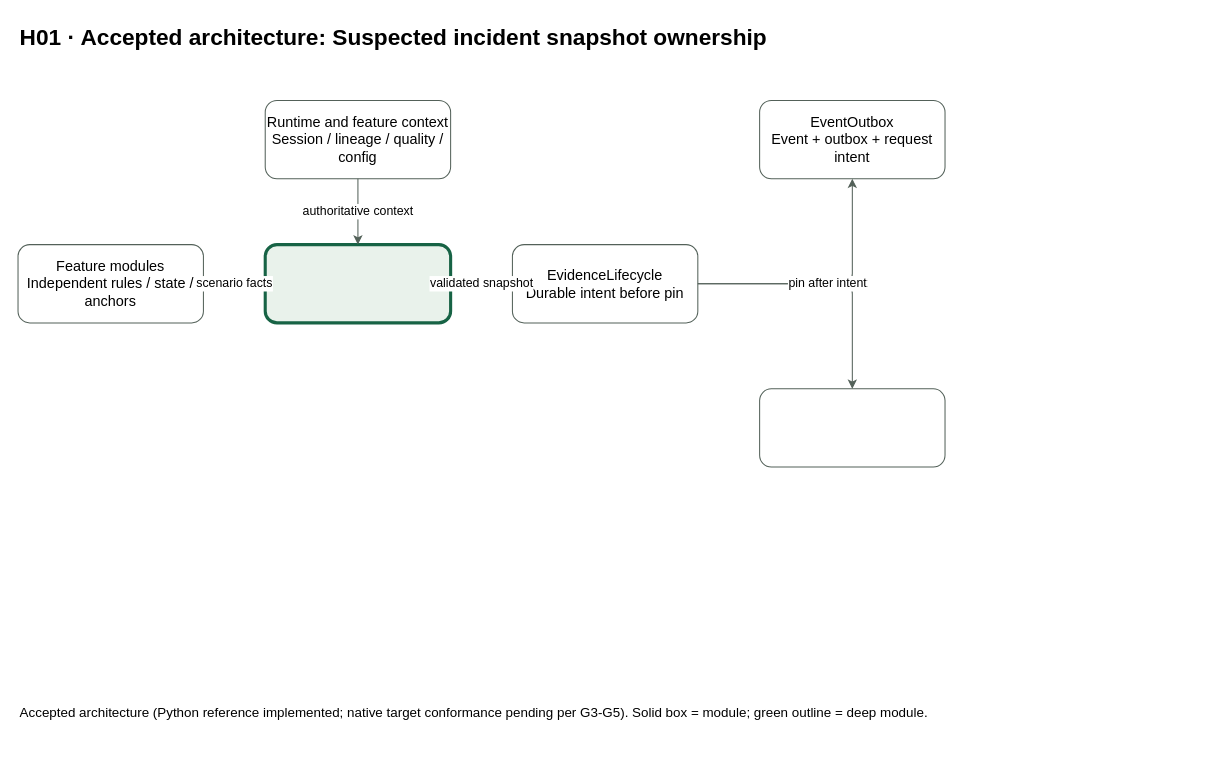
The diagram is 1231 pixels wide and 764 high, and some of its shapes have lost their labels. Each missing label, with the box of its shape:
Recorder Pin / finalize / receipt: (759, 388, 945, 467)
Suspected incident module Construct / validate full snapshot: (263, 243, 452, 324)
